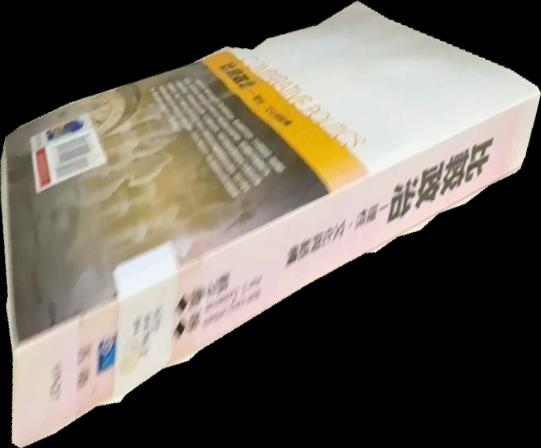flat: (1, 1, 541, 448)
